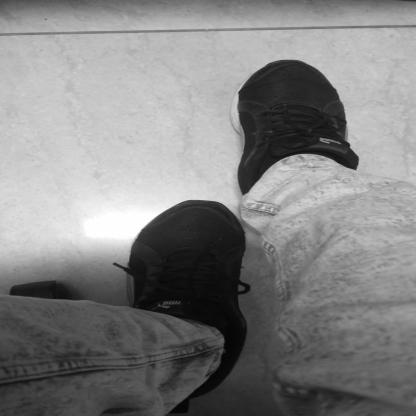ankle: (225, 330, 230, 332), (263, 161, 266, 163)
heel: (245, 189, 249, 192), (195, 393, 200, 395)
left_foot: (126, 201, 248, 401)
pinky: (322, 80, 326, 82), (153, 223, 157, 225)
right_foot: (231, 61, 360, 197)
toe: (261, 73, 265, 76), (225, 211, 229, 213)
